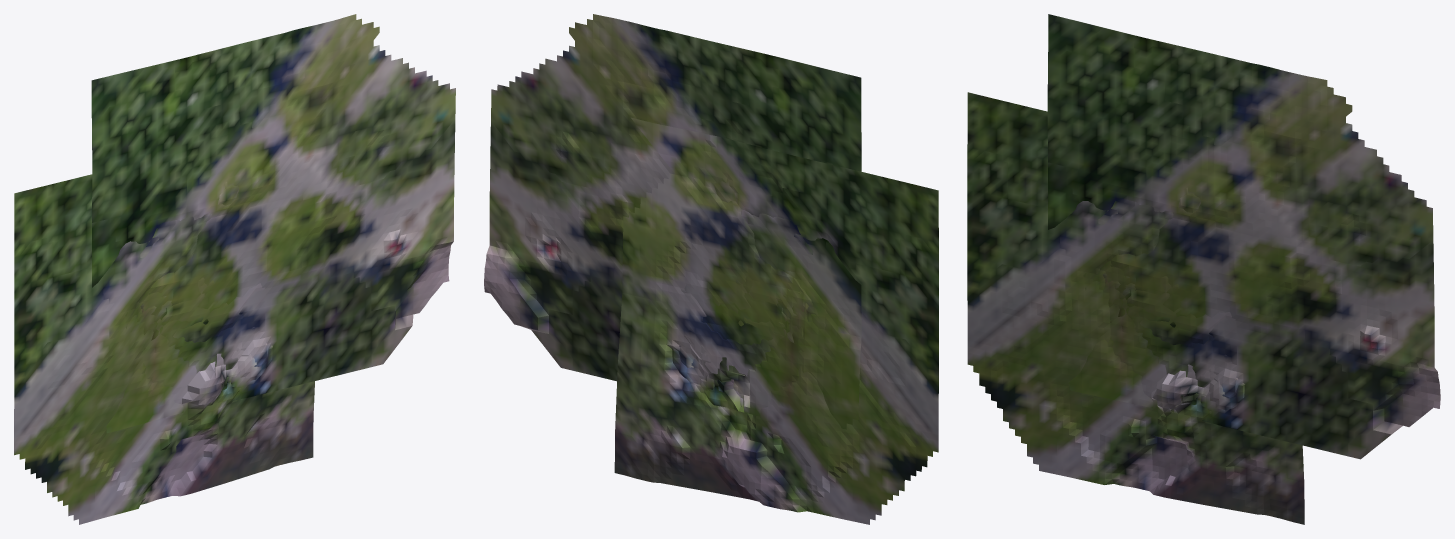
File: combined_no_merge.obj
The picture shows the model from 3 angles, left to right: view 1: azimuth 30°, elevation 25°; view 2: azimuth 150°, elevation 25°; view 3: azimuth 330°, elevation 25°; orthographic projection. The views are drawn at different scales.
Bounding box in the file's own units: 99.44 × 94.77 × 6.01.
